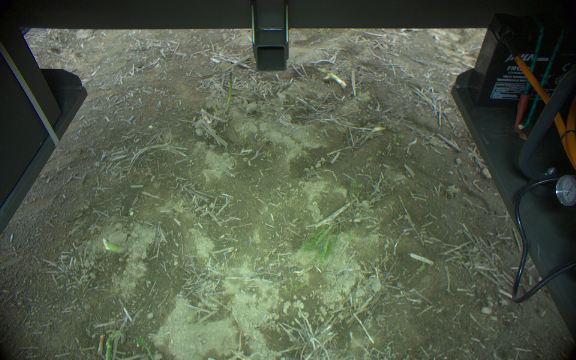aspa: (316, 67, 347, 90), (225, 68, 236, 116), (101, 235, 125, 255)
